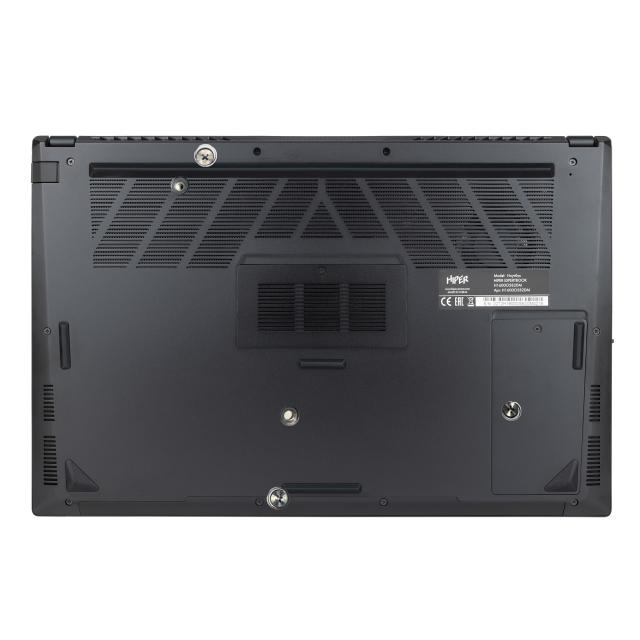lock: (194, 144, 217, 167), (266, 486, 289, 509), (501, 401, 521, 421)
missing_screw: (279, 406, 299, 426), (170, 176, 189, 195)
